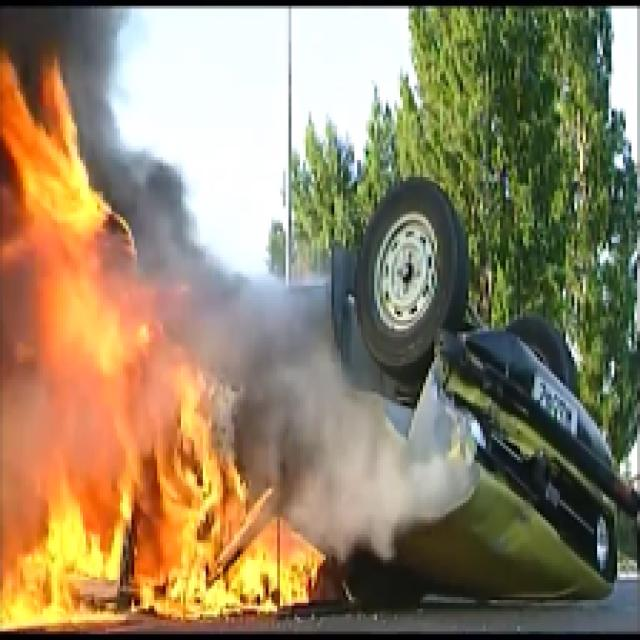fire: (31, 438, 272, 615), (0, 82, 94, 234)
smoke: (273, 400, 444, 535)
